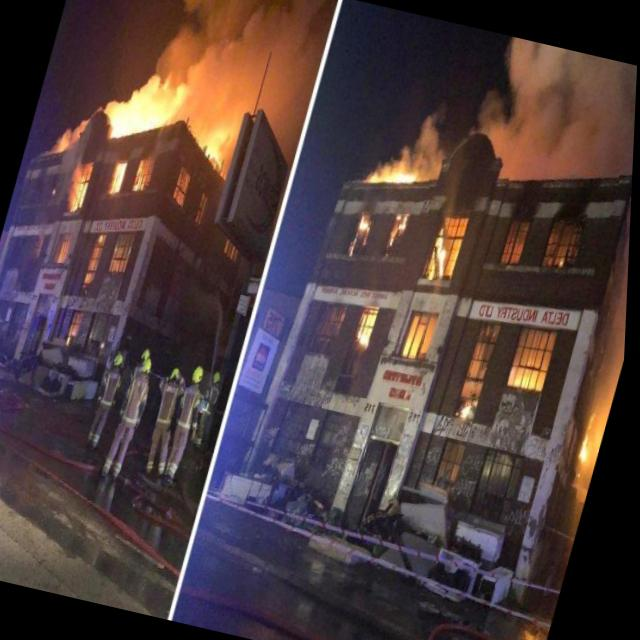fire: (94, 74, 191, 162), (361, 142, 434, 198), (191, 118, 236, 182), (573, 402, 609, 481), (508, 352, 553, 401), (428, 225, 459, 282), (352, 302, 384, 352), (347, 208, 377, 258), (63, 172, 94, 218), (386, 206, 414, 254), (105, 155, 131, 205), (129, 153, 155, 203), (456, 392, 486, 428), (402, 331, 426, 359), (555, 252, 571, 270)
